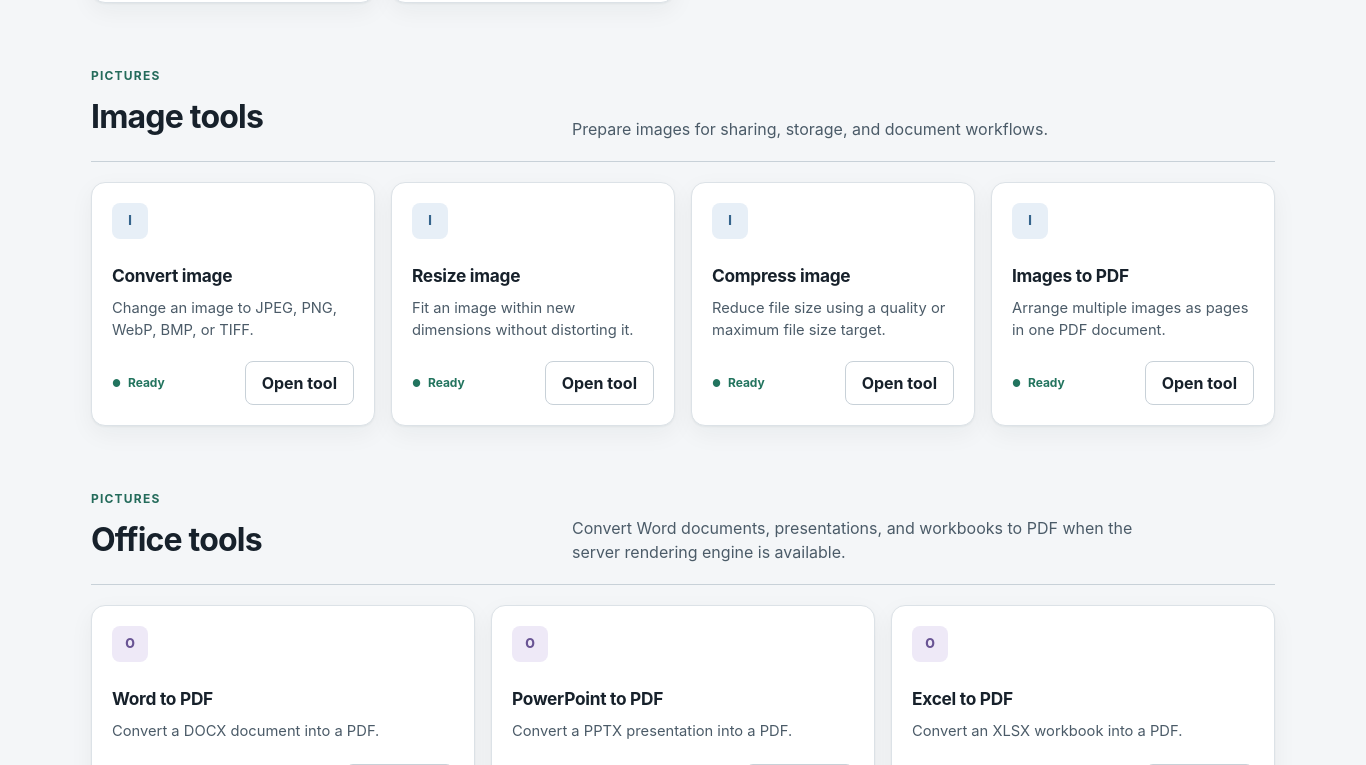
Scenario: DocuForge application shell › opens an image workflow, focuses its heading, and returns to the catalog
(page scrolled)
Click the button with aria-label "Open Resize image".
click(599, 383)  # box [545, 361, 654, 405]
(page scrolled)
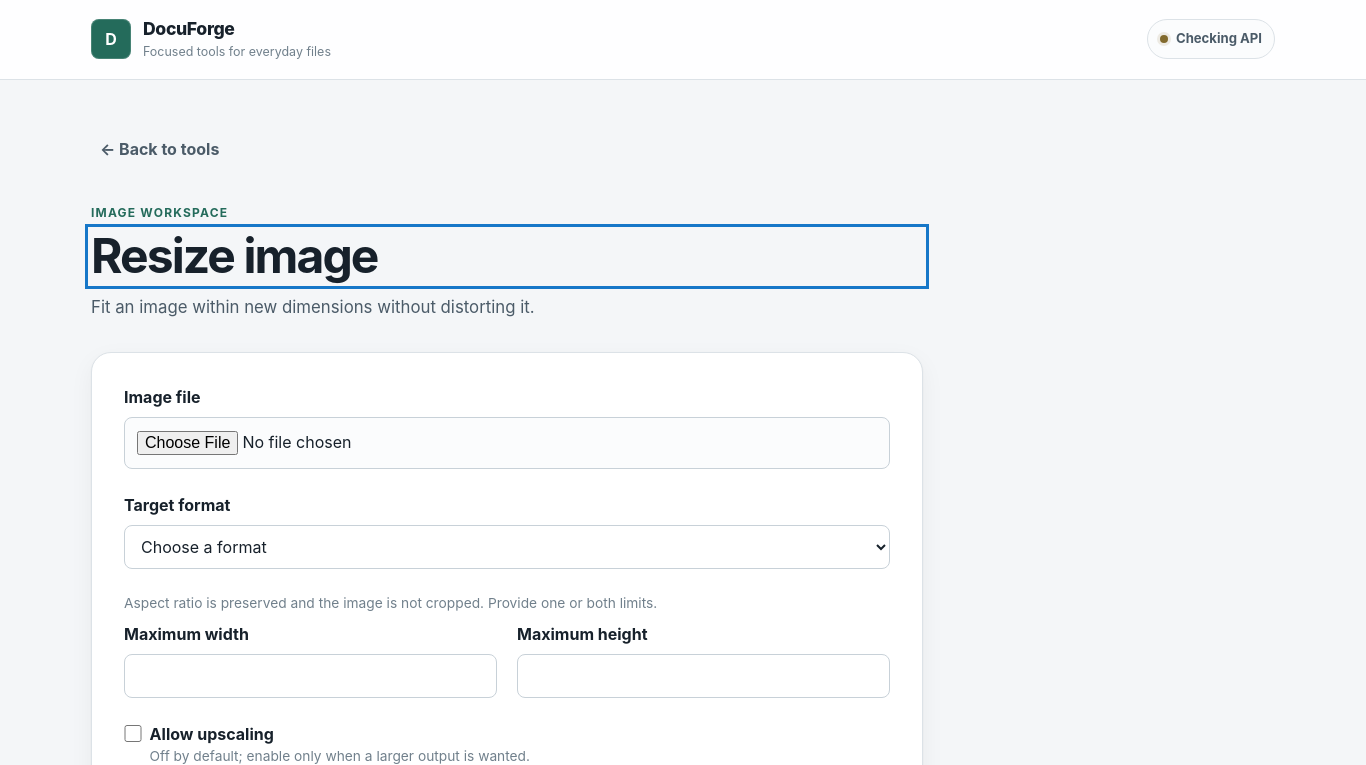
Click the button "← Back to tools".
click(160, 150)  # box [91, 128, 228, 172]
(page scrolled)
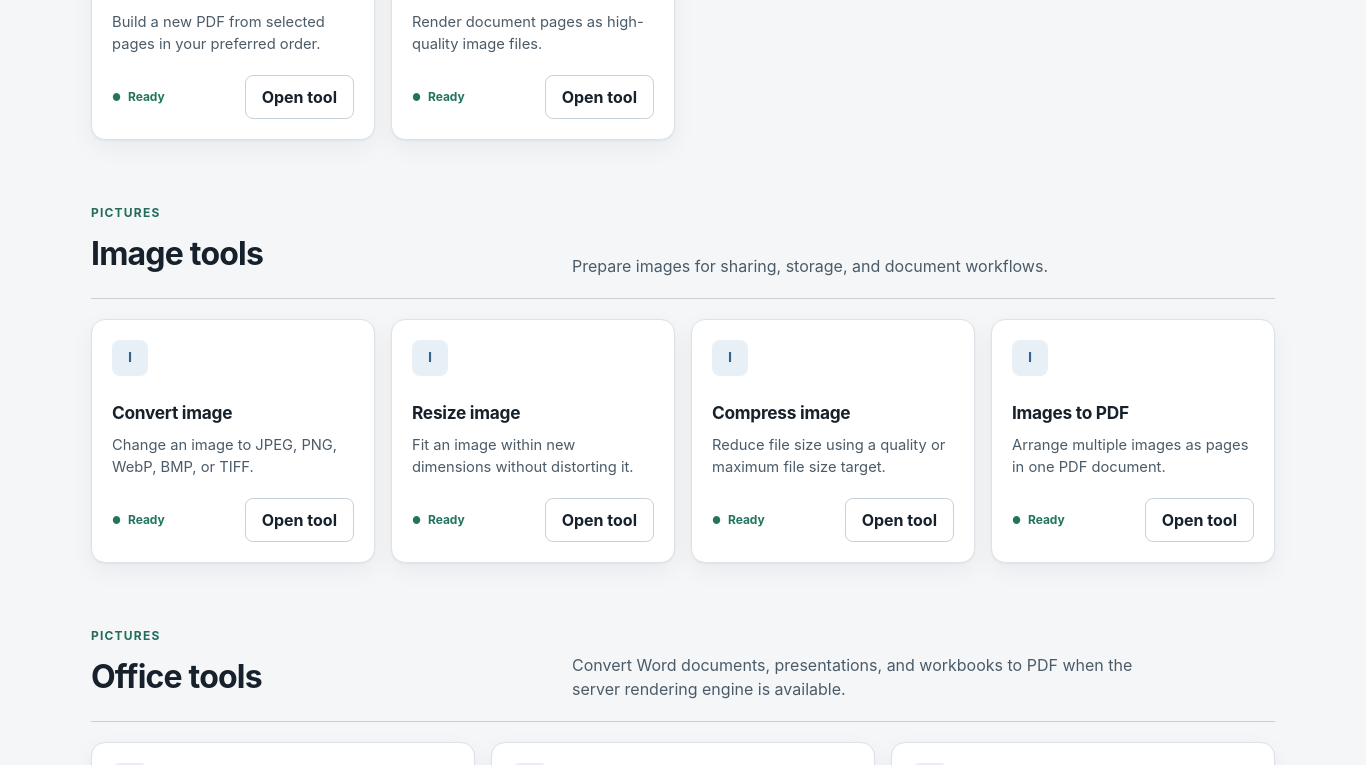
Result: the element "Image tools" is shown at [91, 204, 1275, 563]
